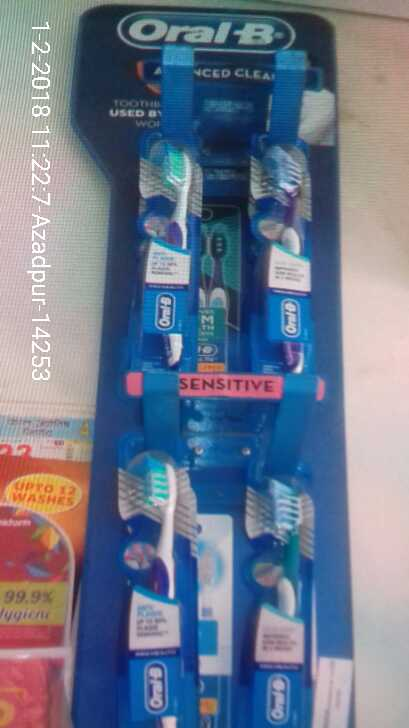oralb: (124, 454, 195, 726), (243, 476, 317, 728), (137, 136, 200, 370), (252, 144, 315, 372)
